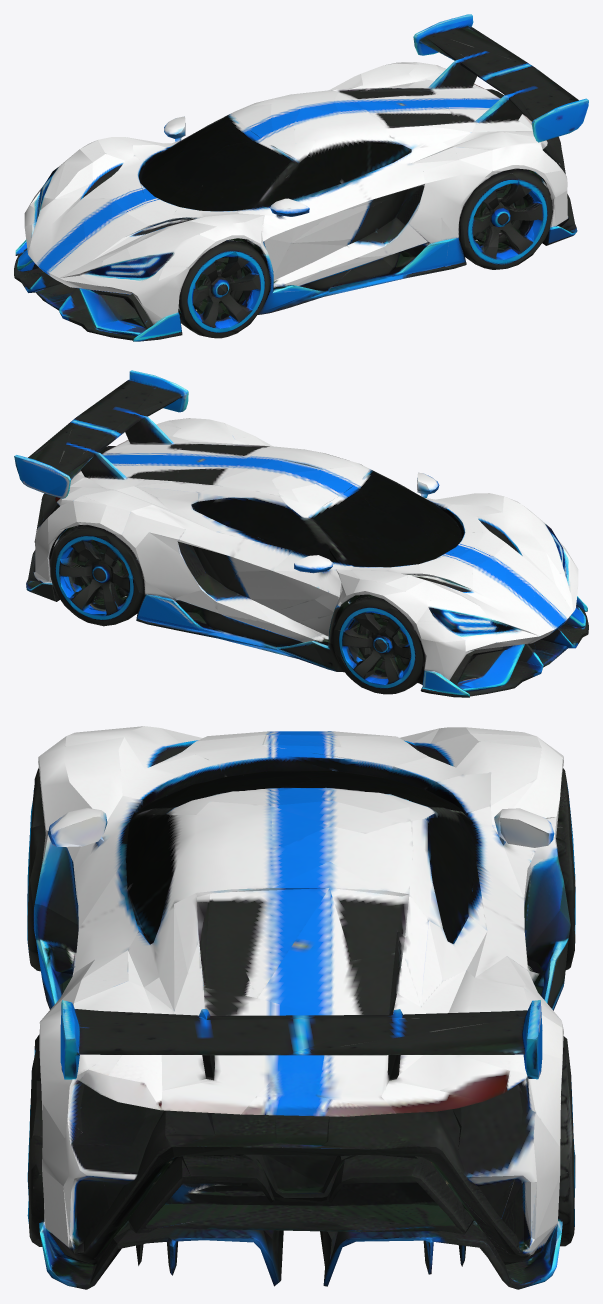
Rendered from hyperion_x.glb.
The picture shows the model from 3 angles, top to bottom: view 1: azimuth 30°, elevation 25°; view 2: azimuth 150°, elevation 25°; view 3: azimuth 270°, elevation 25°; orthographic projection. The views are drawn at different scales.
Size of the model in its own units: 1.9 by 0.5282 by 0.9143.
Materials: 1 (1 with a texture image).
